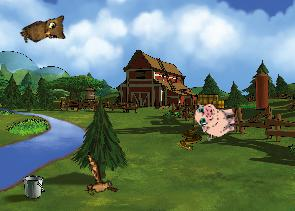eagle: (68, 151, 127, 207)
owl: (18, 10, 72, 55)
pig: (193, 97, 240, 141)
